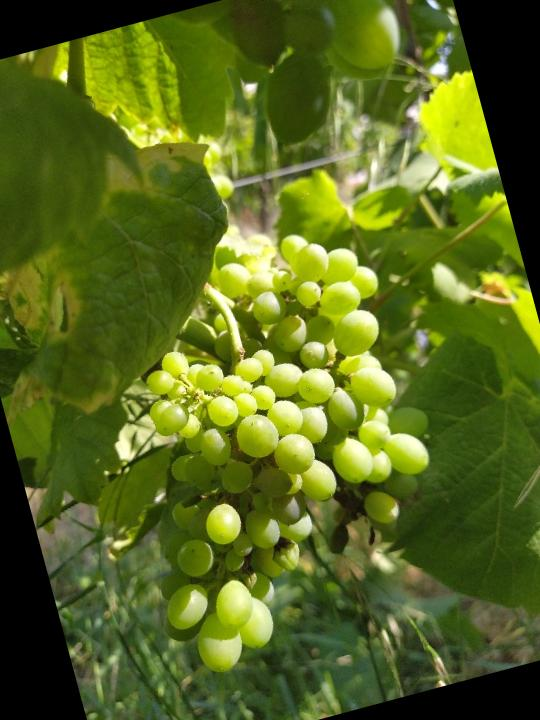grape: (70, 208, 482, 688)
